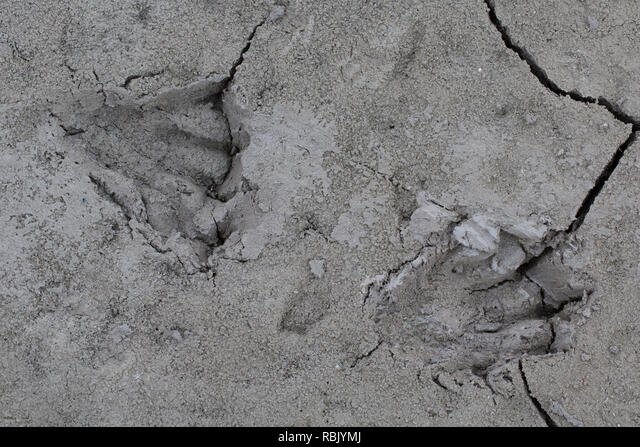beaver: (64, 69, 253, 277), (376, 207, 592, 384)
